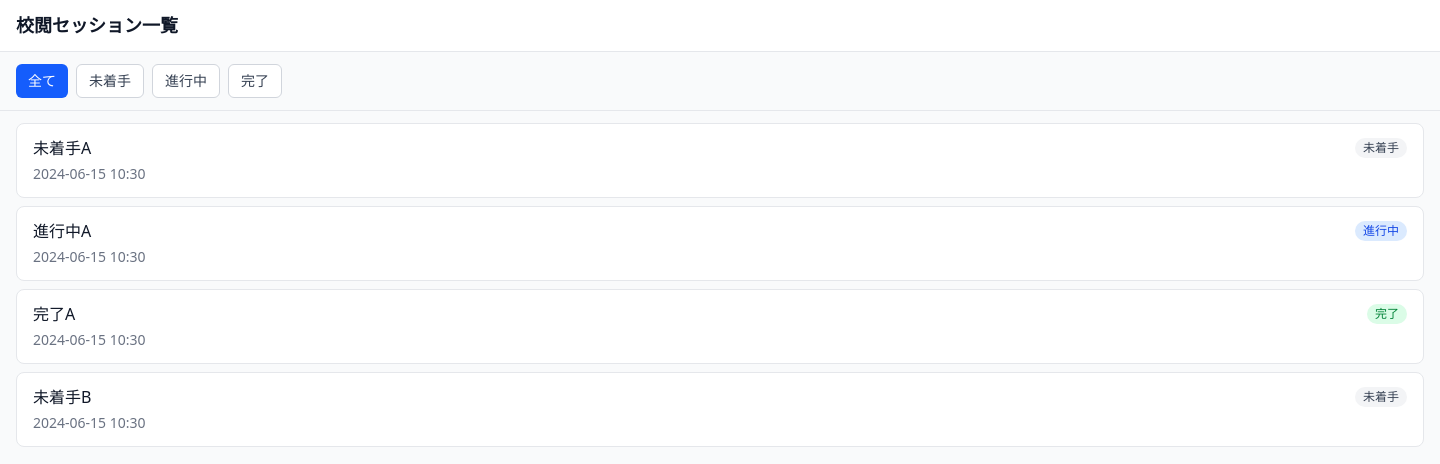
SessionListPage › filtering (uncontrolled fallback — assigned/joinable) › filters by COMPLETED status locally
Click the tab "完了" at [255, 81], box [228,64,282,98]
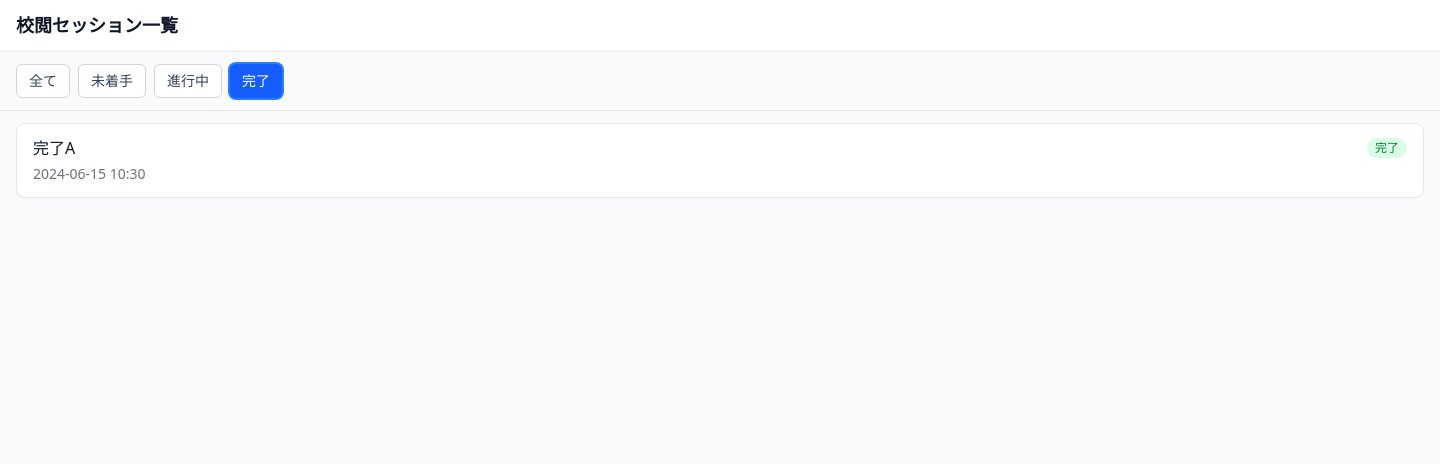
Expected: the text "完了A" is shown, [33,136,75,160]
Expected: the button "未着手A" is gone
Expected: the button "進行中A" is gone
